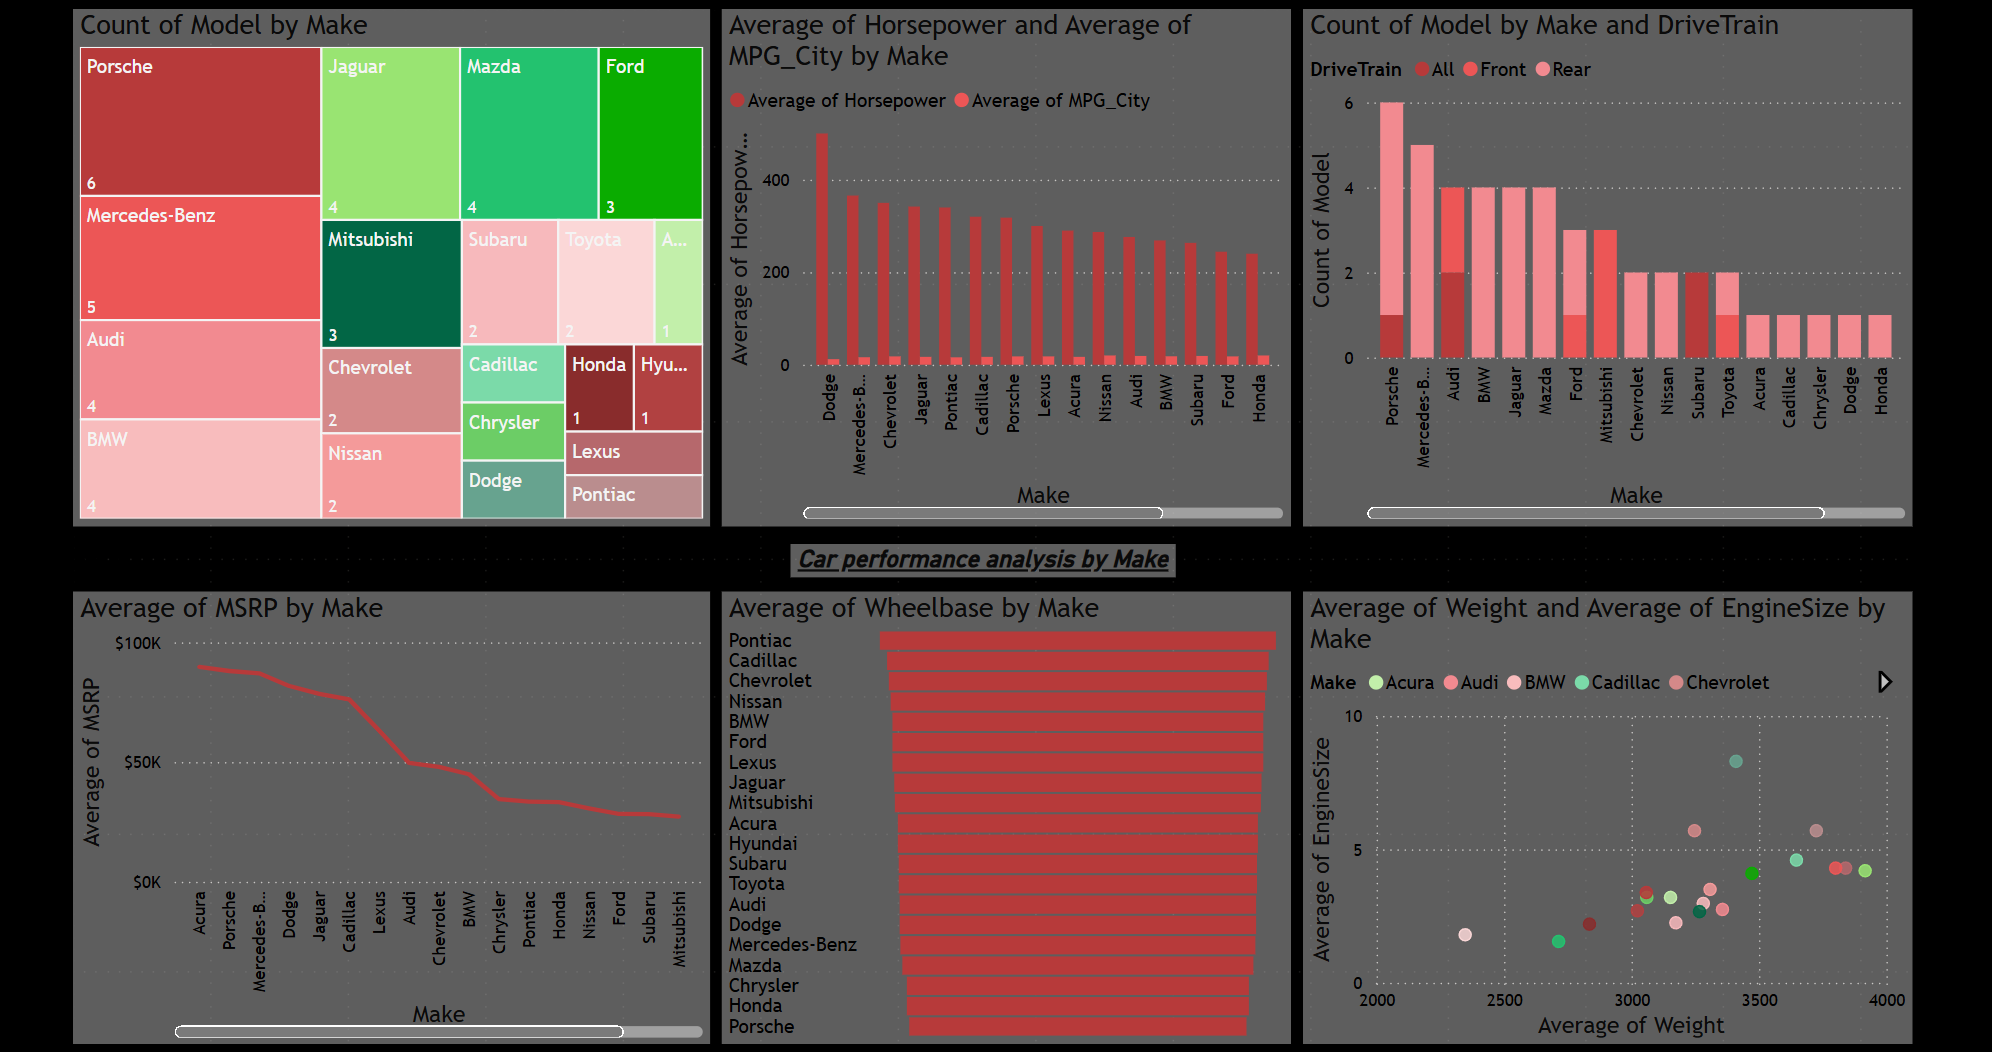

The page's visual inventory and layout, read from the dashboard file:
{"tool":"powerbi","page":{"name":"Page 3","canvas":[1280,720],"ordinal":2},"visuals":[{"type":"treemap","fields":{"Group":["CARS.Make"],"Values":["Count(CARS.Model)"]},"box":[0,0,443.3,359.8],"z":0},{"type":"actionButton","box":[0,0,100,40],"z":1000},{"type":"lineChart","fields":{"Y":["Avg(CARS.MSRP)"],"Category":["CARS.Make"]},"box":[0,404.9,443.3,315.5],"z":2000},{"type":"clusteredColumnChart","fields":{"Category":["CARS.Make"],"Y":["Avg(CARS.Horsepower)","Avg(CARS.MPG_City)"]},"box":[451.6,0,395.7,359.8],"z":3000},{"type":"funnel","fields":{"Category":["CARS.Make"],"Y":["Avg(CARS.Wheelbase)"]},"box":[451.6,404.9,395.7,315.5],"z":4000},{"type":"lineStackedColumnComboChart","fields":{"Category":["CARS.Make"],"Y":["Count(CARS.Model)"],"Series":["CARS.DriveTrain"]},"box":[855.7,0,424.1,359.8],"z":5000},{"type":"scatterChart","fields":{"X":["Avg(CARS.Weight)"],"Y":["Avg(CARS.EngineSize)"],"Series":["CARS.Make"]},"box":[855.7,404.9,424.1,315.5],"z":6000},{"type":"textbox","title":"Car performance analysis by Make","box":[499.2,372.3,268,23.4],"z":7000}]}

Visuals, with their boxes in screenshot pixels (x1, y1, x2, y2):
treemap - CARS.Make x Count(CARS.Model): region(62, 0, 702, 519)
actionButton: region(62, 0, 206, 58)
lineChart - Avg(CARS.MSRP) x CARS.Make: region(62, 584, 702, 1039)
clusteredColumnChart - CARS.Make x Avg(CARS.Horsepower): region(714, 0, 1284, 519)
funnel - CARS.Make x Avg(CARS.Wheelbase): region(714, 584, 1284, 1039)
lineStackedColumnComboChart - CARS.Make x Count(CARS.Model): region(1296, 0, 1908, 519)
scatterChart - Avg(CARS.Weight) x Avg(CARS.EngineSize): region(1296, 584, 1908, 1039)
"Car performance analysis by Make" textbox: region(782, 537, 1169, 571)
